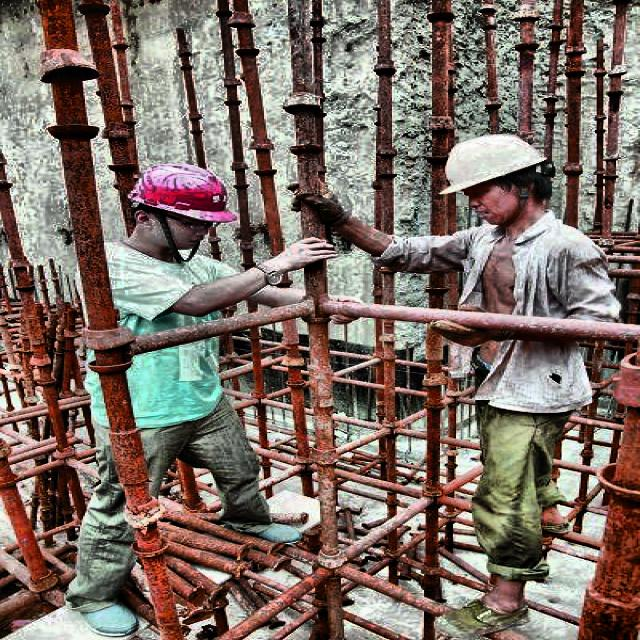helmet: (434, 125, 562, 231), (119, 148, 238, 256)
